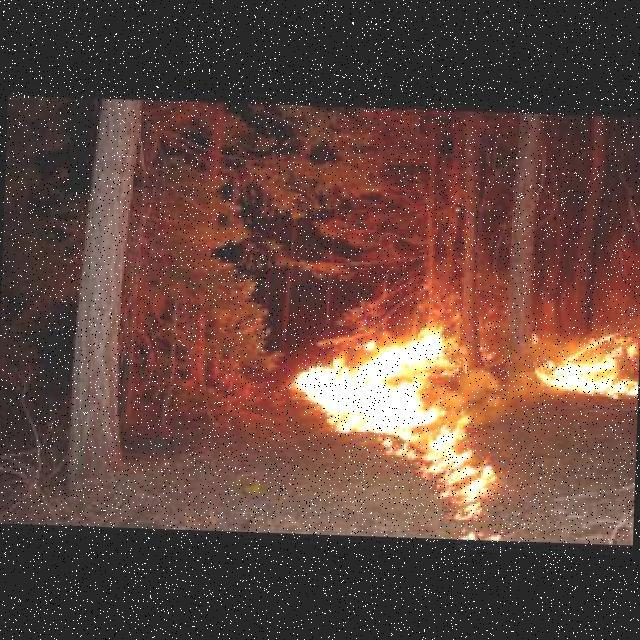Fire: (293, 313, 638, 523)
